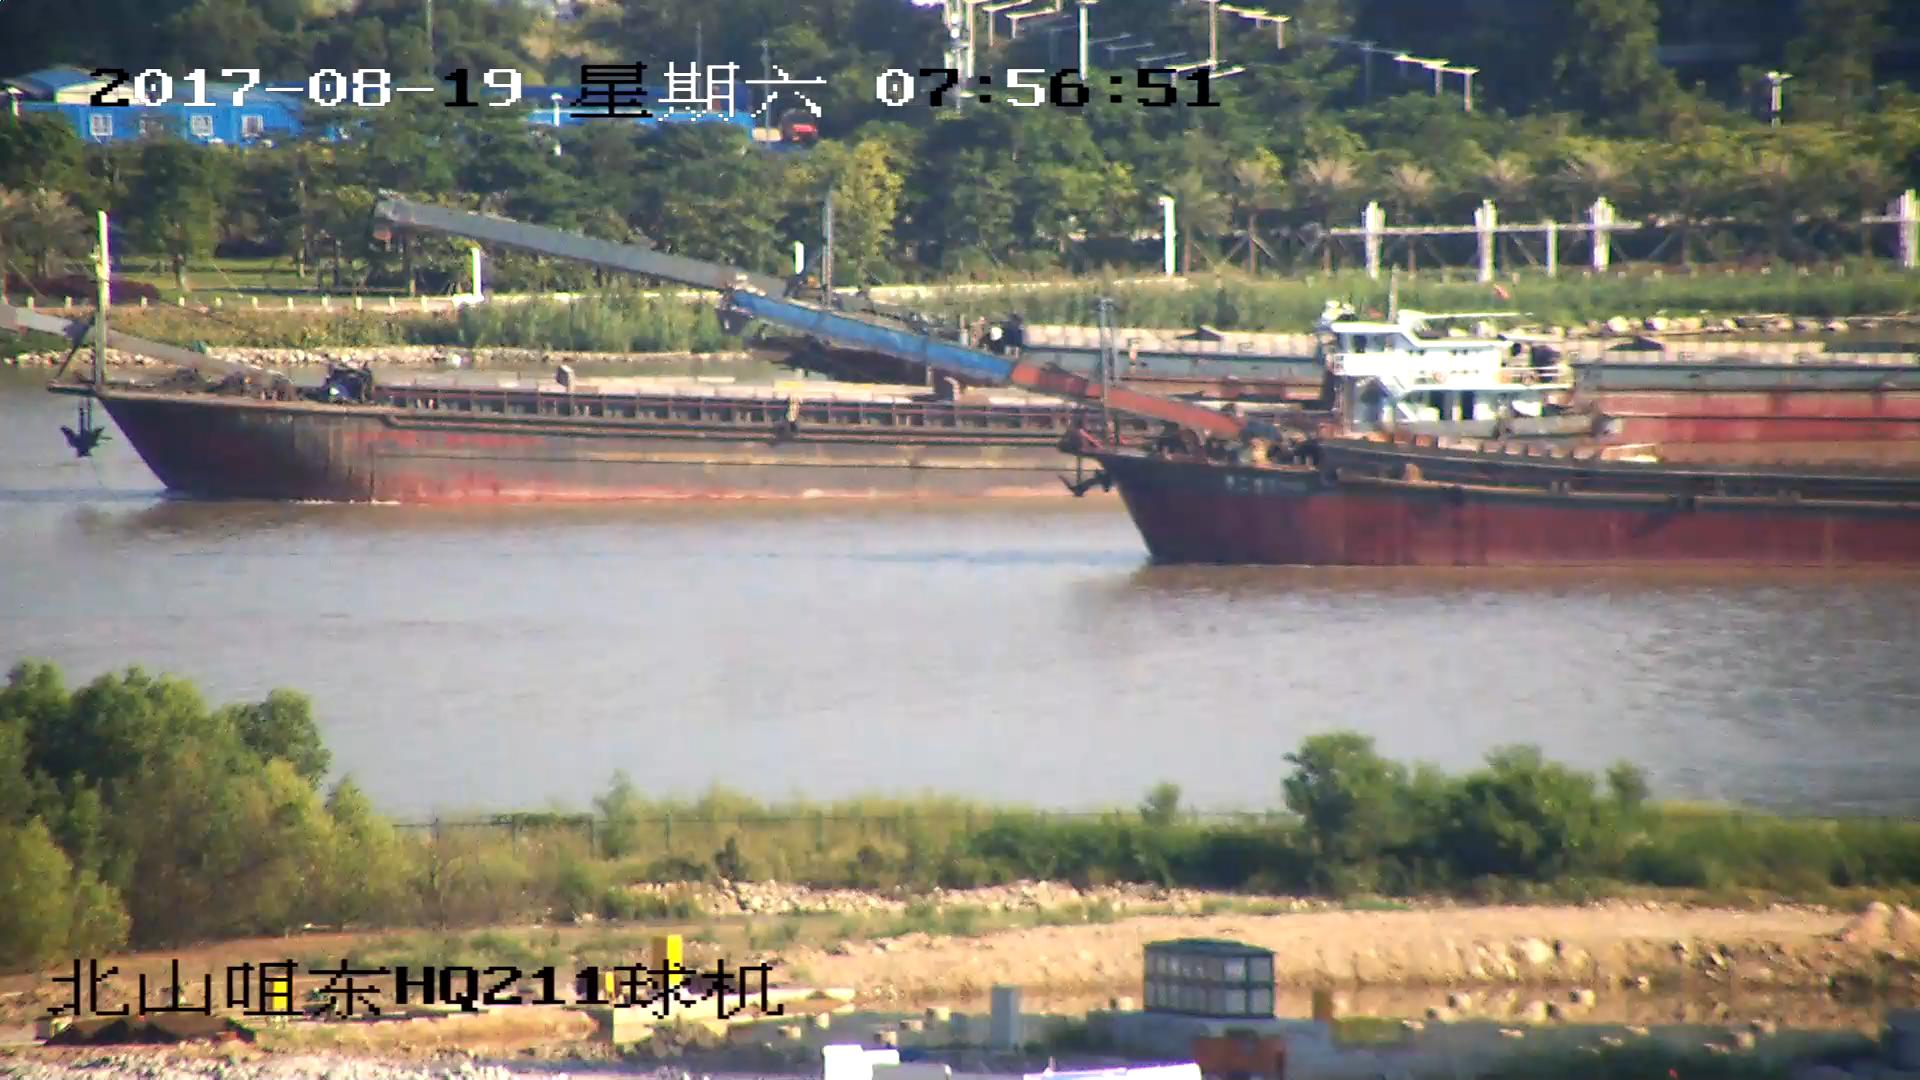bulk cargo carrier: (727, 288, 1920, 570), (1, 214, 1059, 509), (378, 200, 1920, 386)
